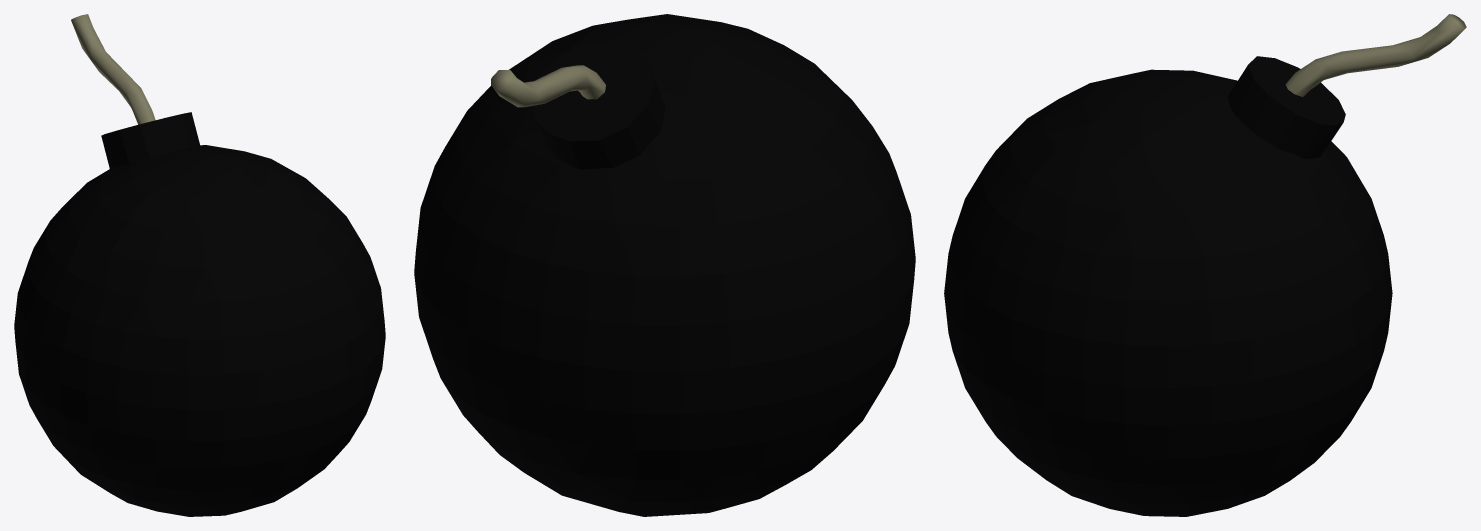
File: bomb.fbx
3 views of the same model, side by side, from view 1: azimuth 30°, elevation 25°; view 2: azimuth 150°, elevation 25°; view 3: azimuth 270°, elevation 25° (orthographic). The views are drawn at different scales.
Visible parts, largest first — view 1: 球, 円柱, ベジエカーブ; view 2: 球, 円柱, ベジエカーブ; view 3: 球, 円柱, ベジエカーブ.
Part boxes in pixels (box(x1,y1,x2,y2)): 球: box(14, 145, 385, 516); 円柱: box(101, 112, 199, 168); ベジエカーブ: box(71, 14, 155, 124); 球: box(414, 14, 915, 516); 円柱: box(532, 42, 665, 169); ベジエカーブ: box(491, 65, 605, 107); 球: box(944, 69, 1392, 516); 円柱: box(1227, 56, 1345, 158); ベジエカーブ: box(1285, 14, 1466, 96).
Bounding box in the file's own units: 200 × 237 × 233.
